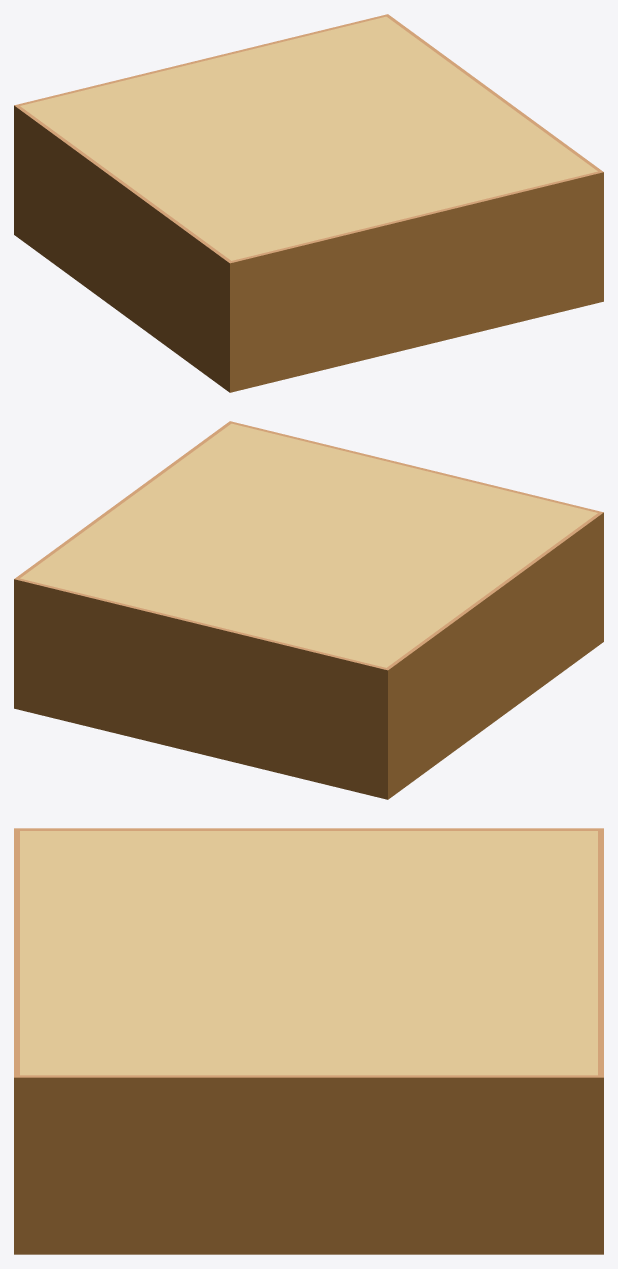
The model's file is crosswalk_floor3.fbx.
3 renders of one model, top to bottom at view 1: azimuth 30°, elevation 25°; view 2: azimuth 150°, elevation 25°; view 3: azimuth 270°, elevation 25°, orthographic. The views are drawn at different scales.
Visible parts, largest first — view 1: crosswalk_floor3; view 2: crosswalk_floor3; view 3: crosswalk_floor3.
Boxes of the visible parts, left/top/right/bottom form: crosswalk_floor3: left=14, top=14, right=603, bottom=392; crosswalk_floor3: left=14, top=421, right=603, bottom=799; crosswalk_floor3: left=14, top=828, right=603, bottom=1254.
Size of the model in its own units: 100 by 100 by 33.07.
